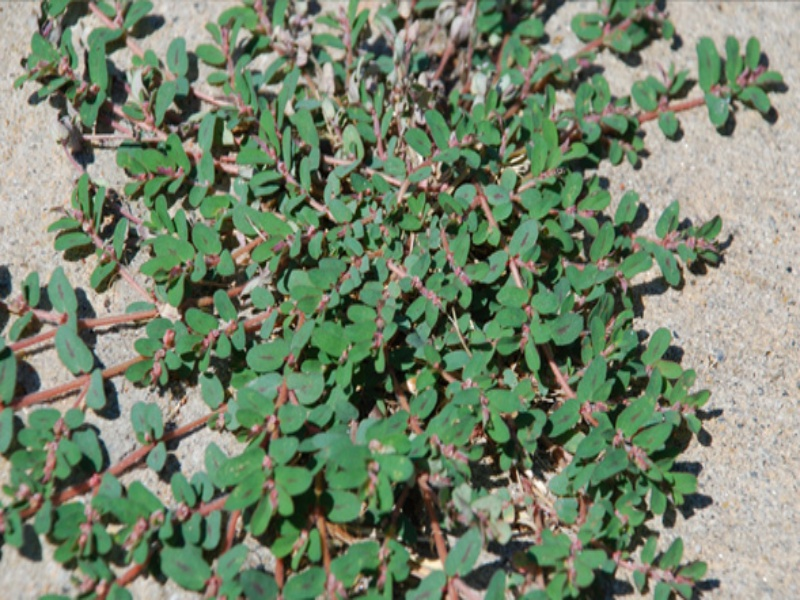weed: (39, 14, 698, 524)
